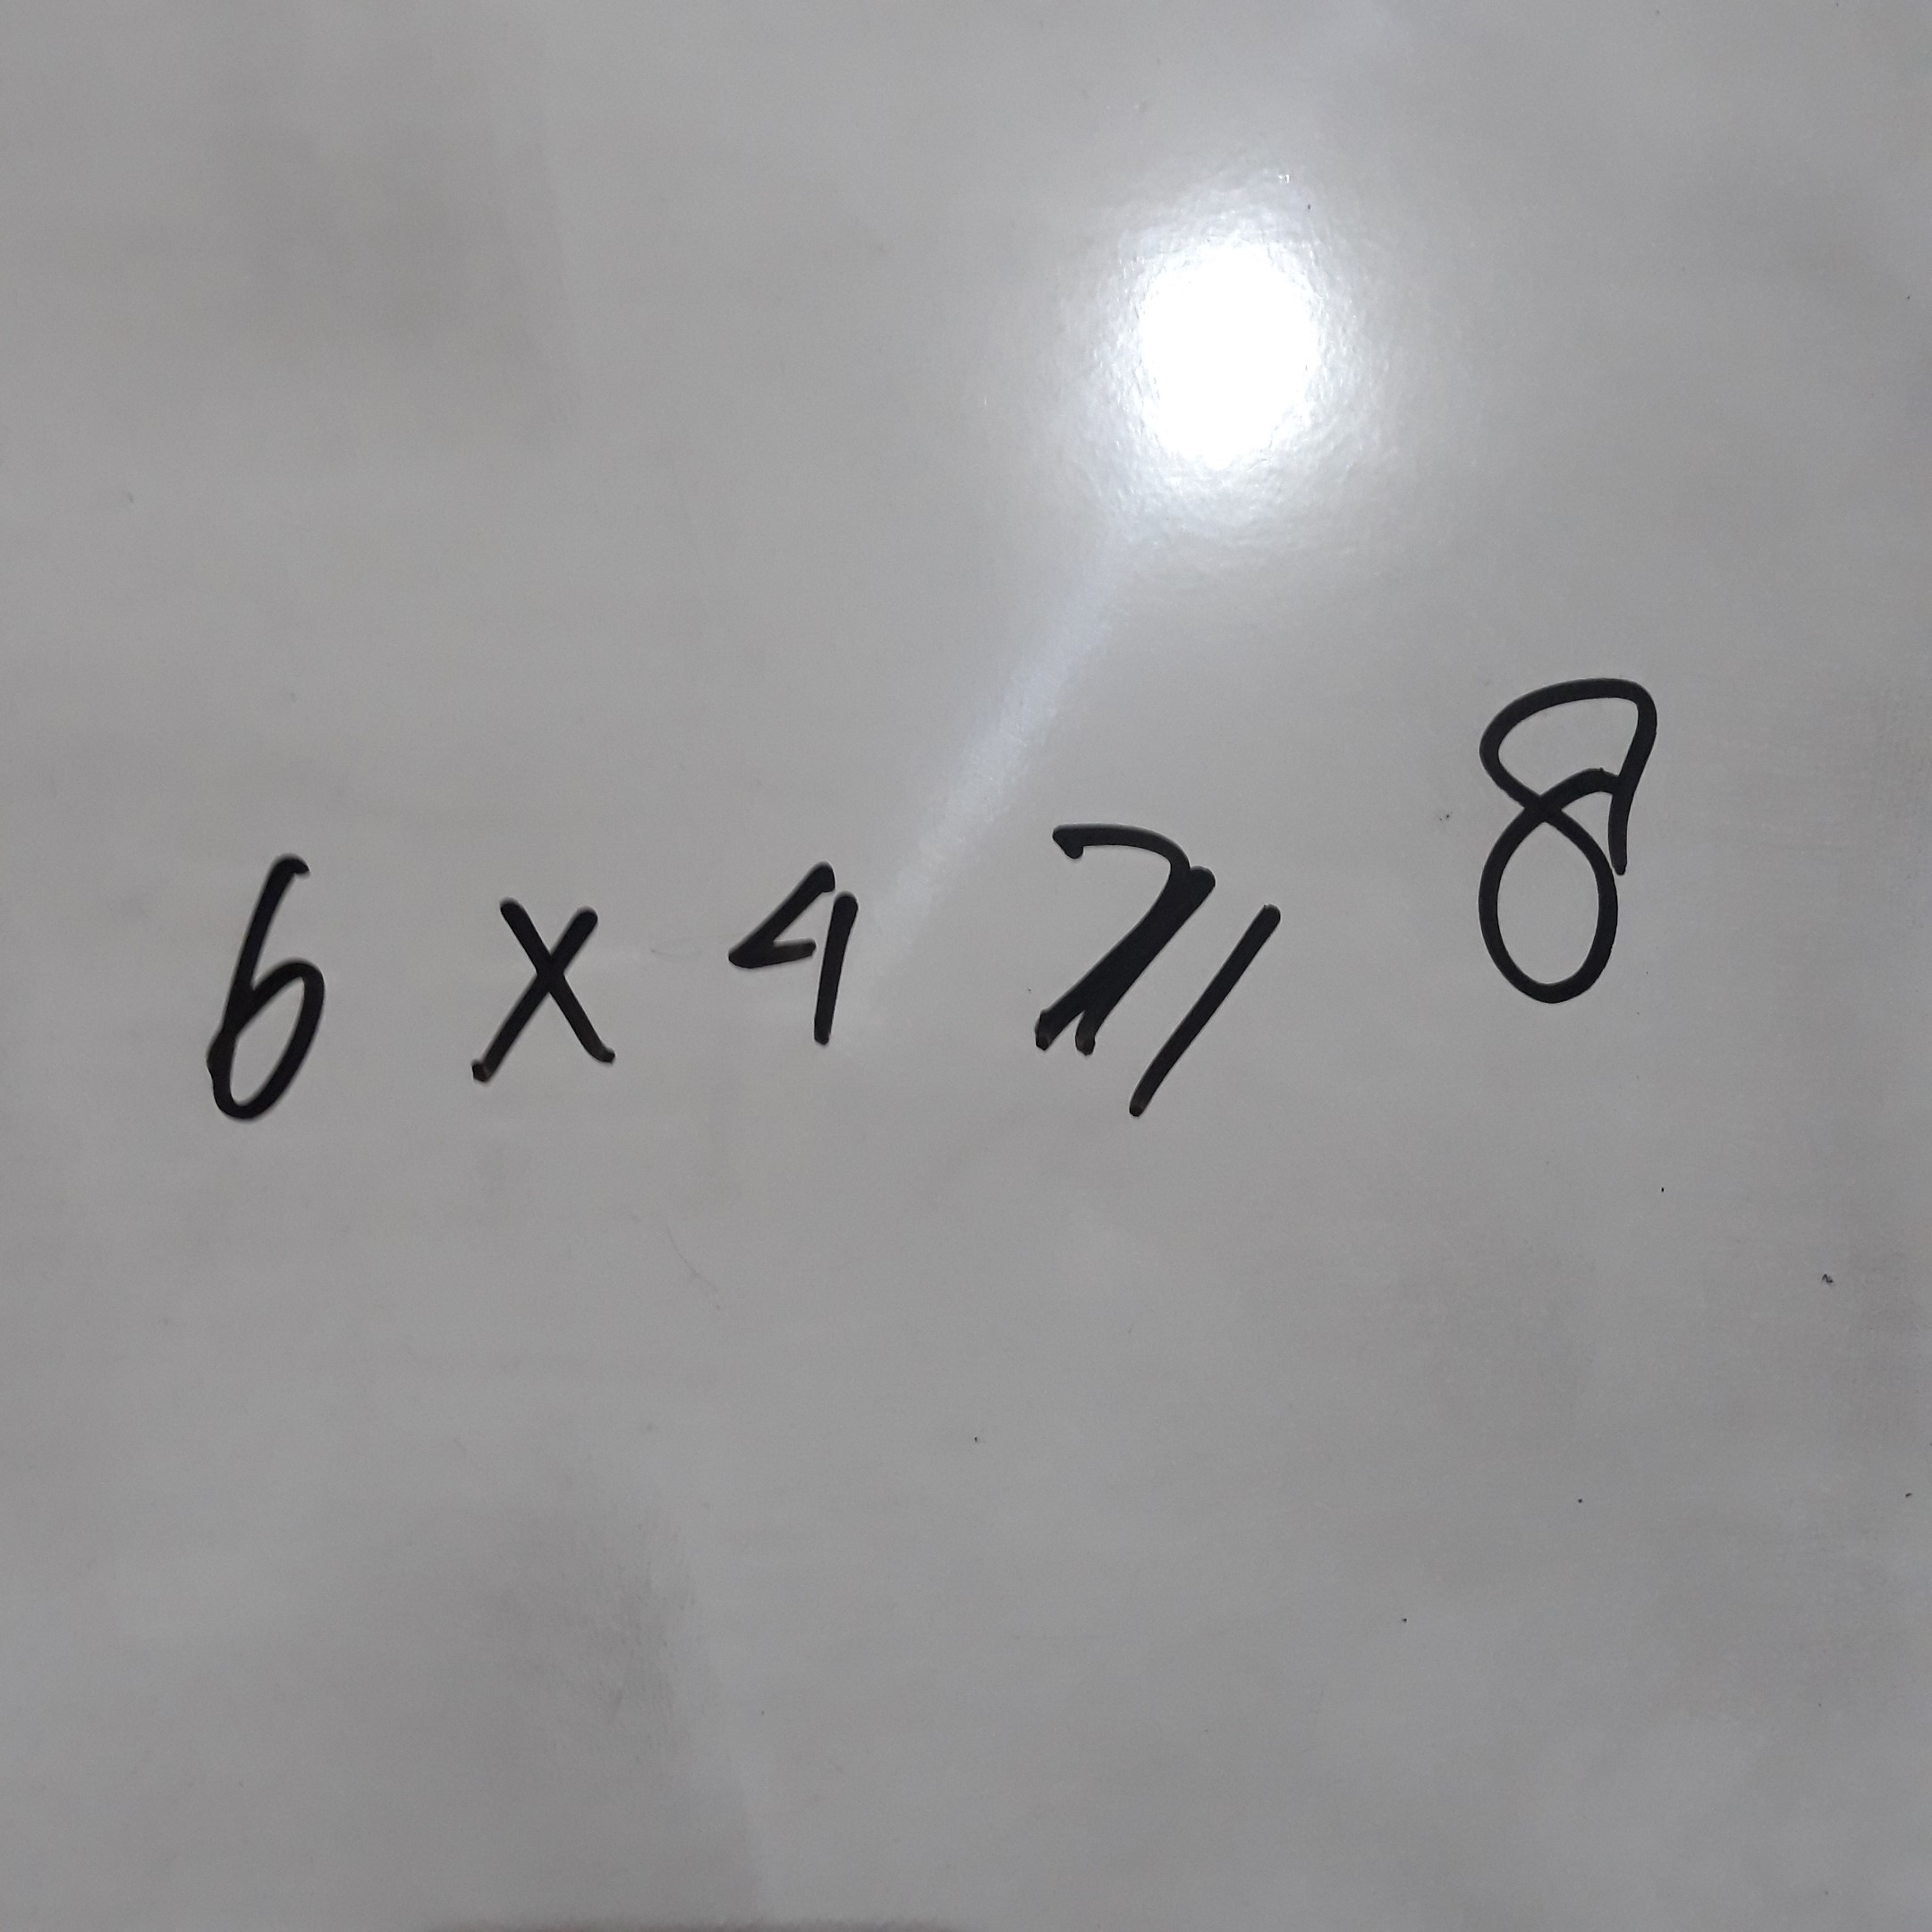morethan-equal: (981, 753, 1310, 1157)
multi: (457, 861, 640, 1110)
num4: (713, 824, 895, 1072)
num6: (165, 811, 358, 1155)
num8: (1402, 638, 1732, 1041)
